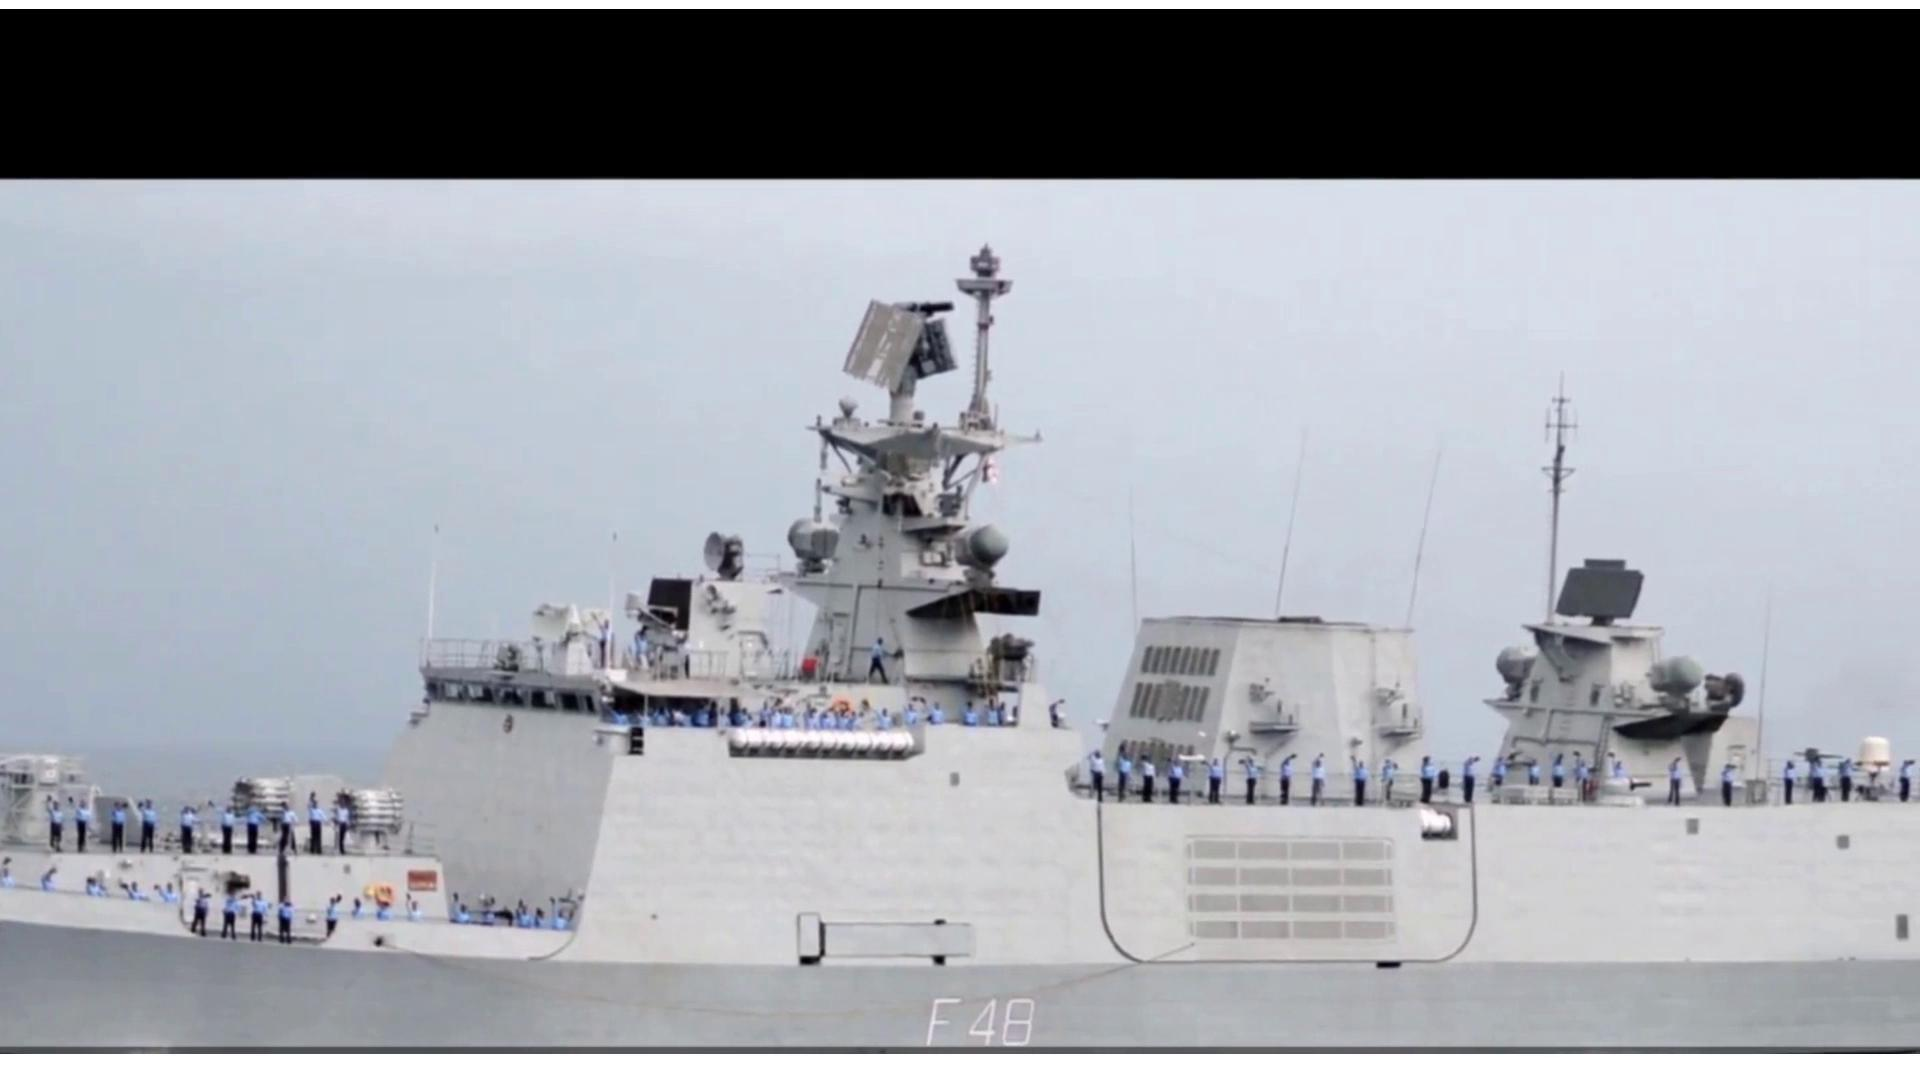OCR: (894, 986, 1052, 1048)
